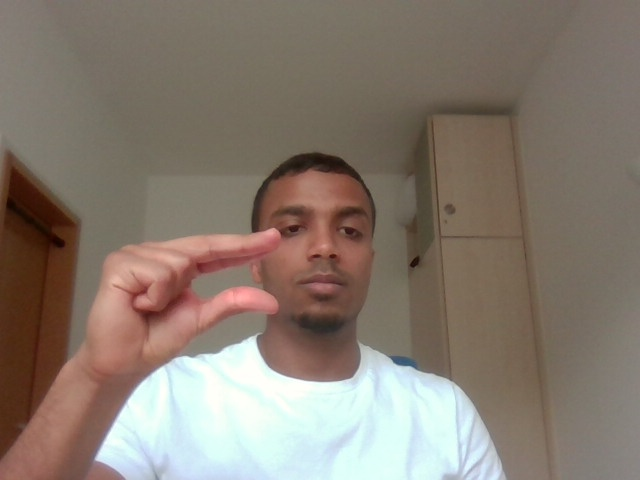never: (74, 207, 290, 391)
